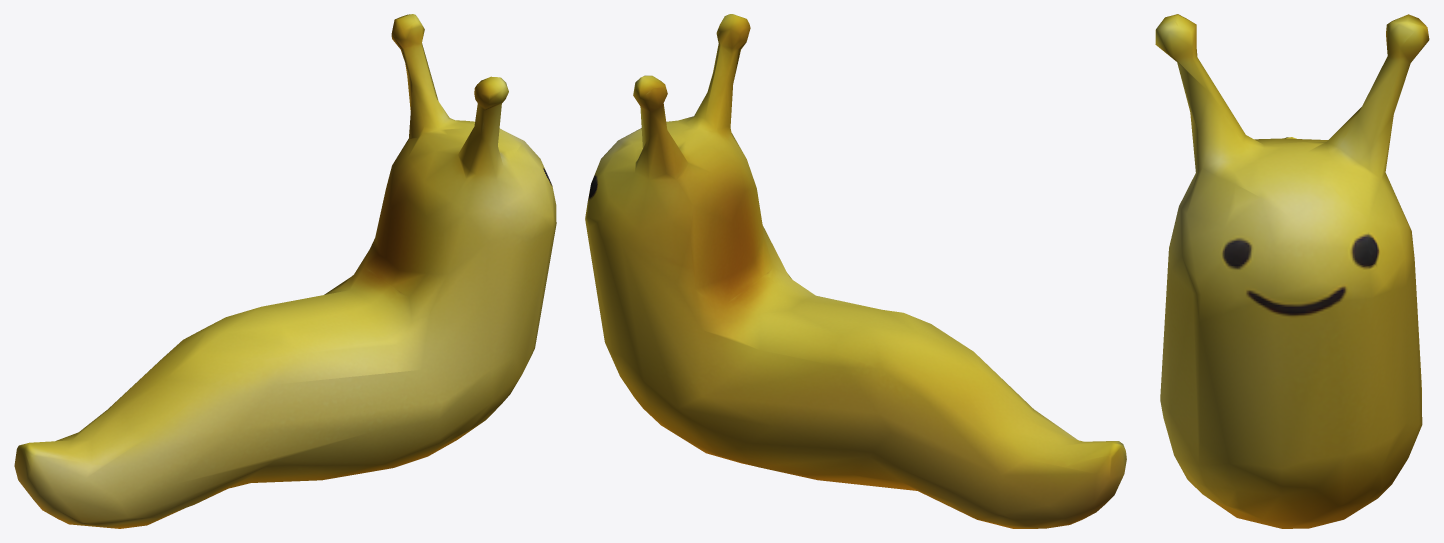
Rendered from slug.glb.
3 renders of one model, left to right at view 1: azimuth 30°, elevation 25°; view 2: azimuth 150°, elevation 25°; view 3: azimuth 270°, elevation 25°, orthographic. The views are drawn at different scales.
Parts seen in each view (by area): view 1: geometry_0; view 2: geometry_0; view 3: geometry_0.
Boxes of the visible parts, x1=… form: geometry_0: x1=14, y1=14, x2=556, y2=528; geometry_0: x1=585, y1=14, x2=1126, y2=528; geometry_0: x1=1155, y1=14, x2=1429, y2=528.
Size of the model in its own units: 0.9948 by 0.7189 by 0.3345.
1 material, 1 textured.
